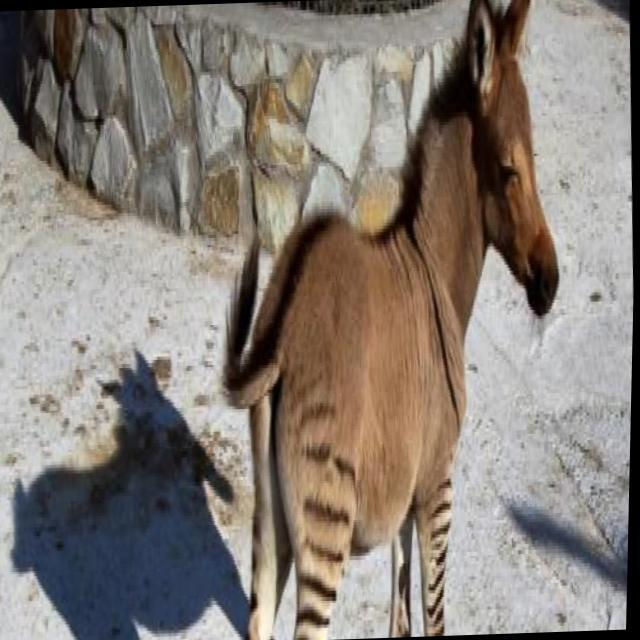Donkey: (216, 0, 577, 640)
